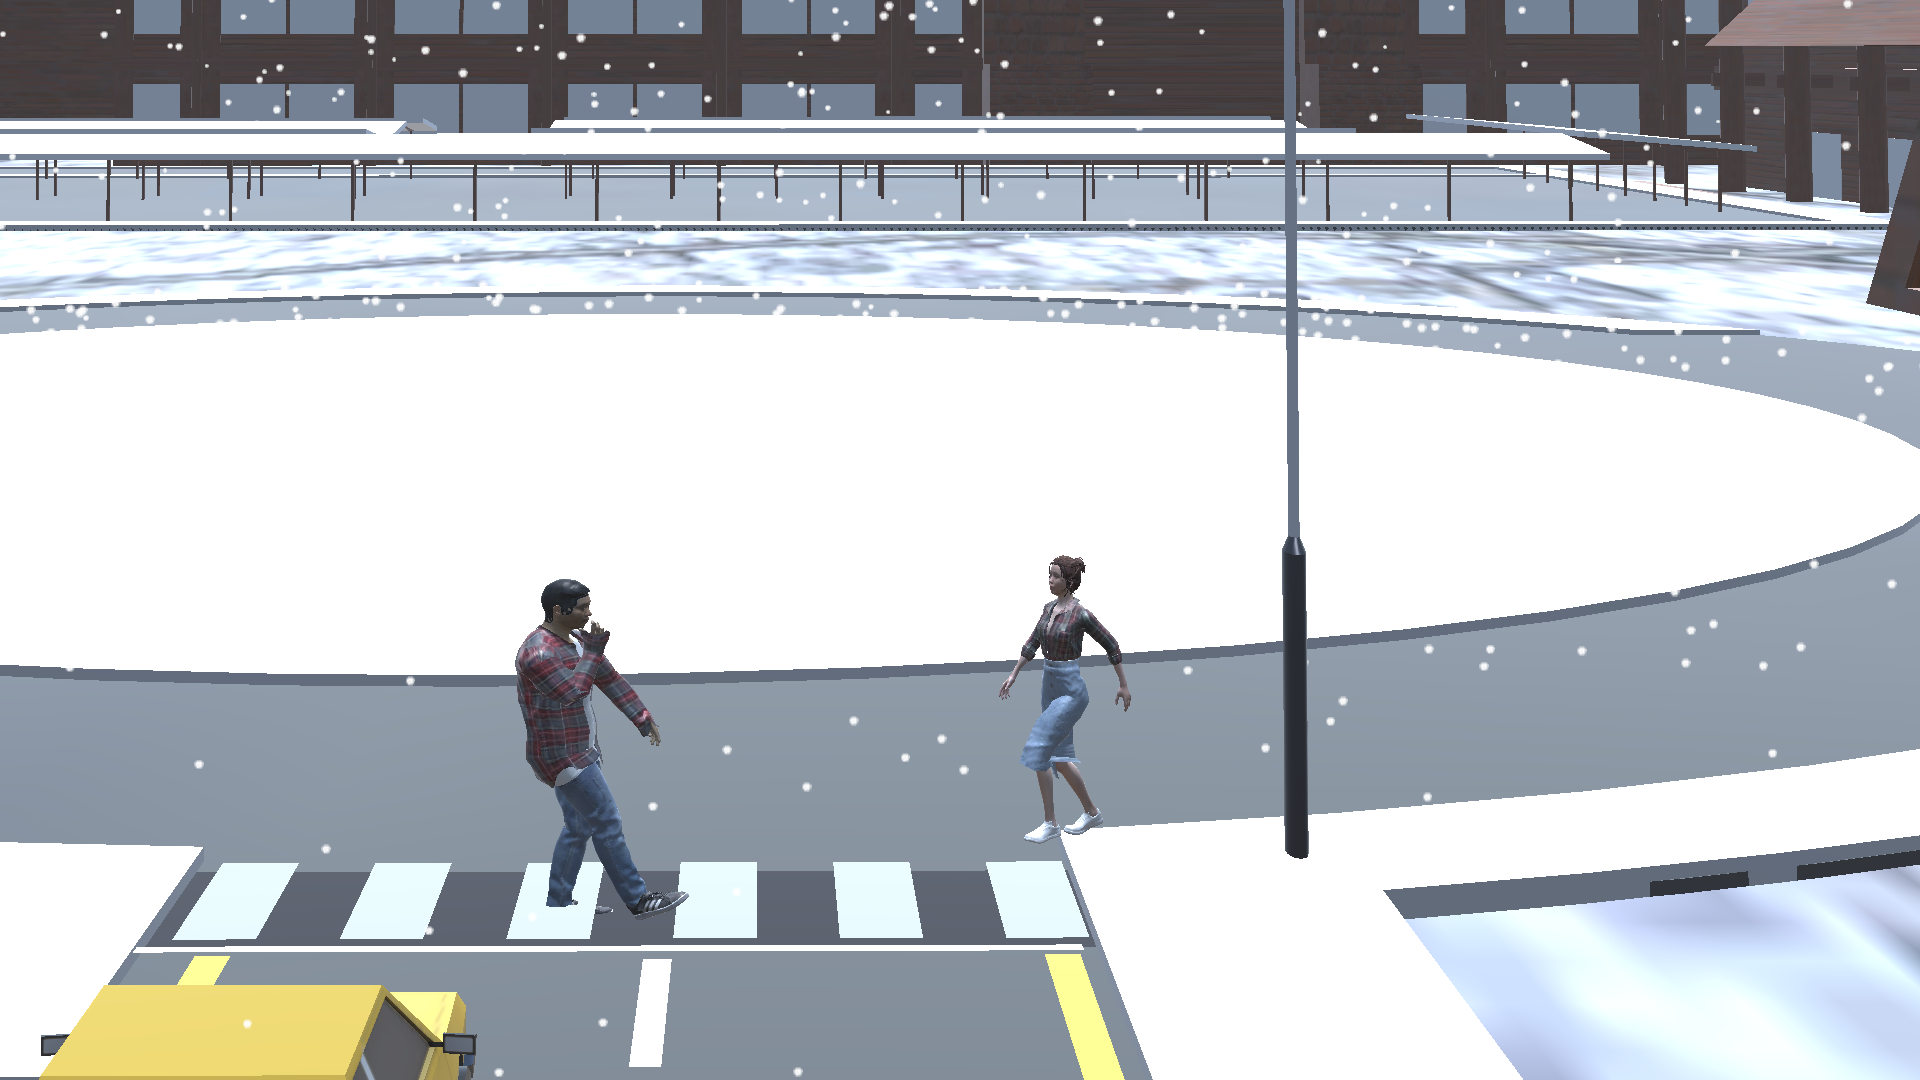pedestrian: (511, 573, 693, 926), (1002, 549, 1131, 851)
